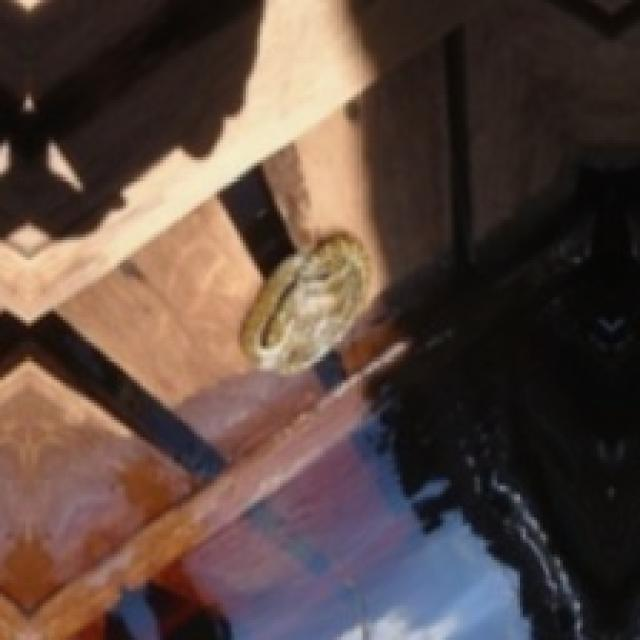reticulated python: (240, 231, 369, 371)
